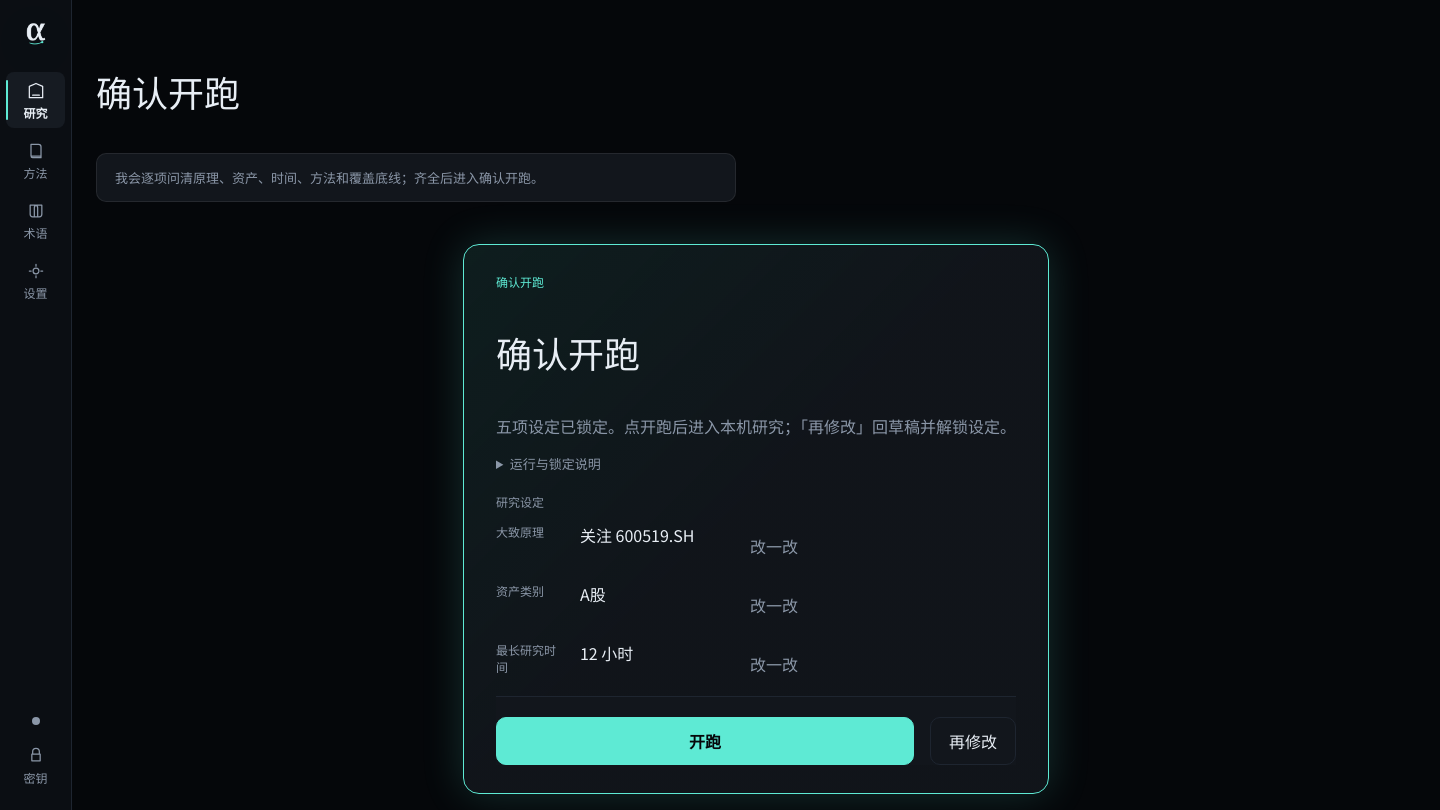
Test: Tech Pulse UI › applies run-start ritual on confirm → running without fake progress UI
(page scrolled)
Click the button "开跑" at point(705, 741), box [496, 717, 914, 765]
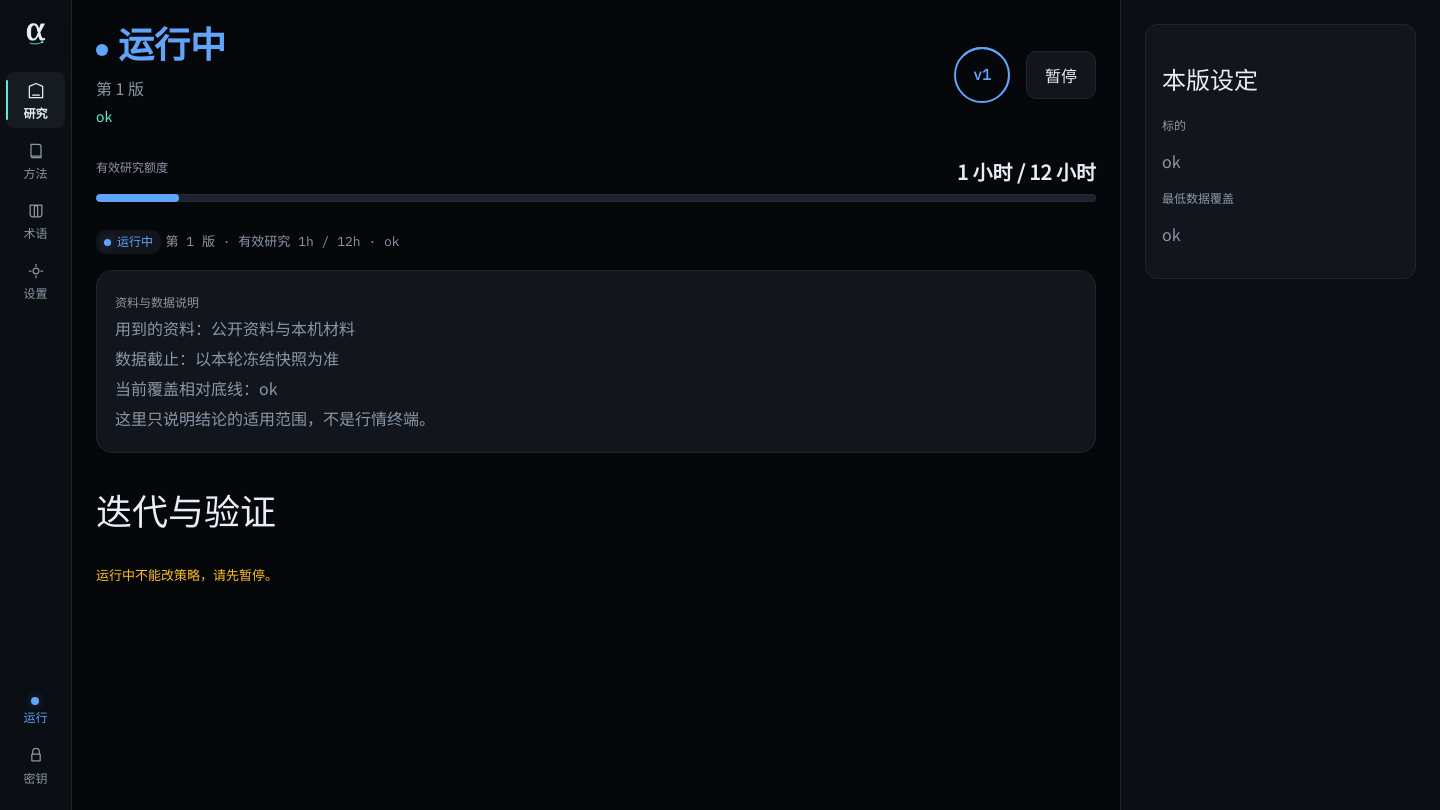
Expected: the element with test id "running-screen" is shown, [72, 0, 1120, 628]
